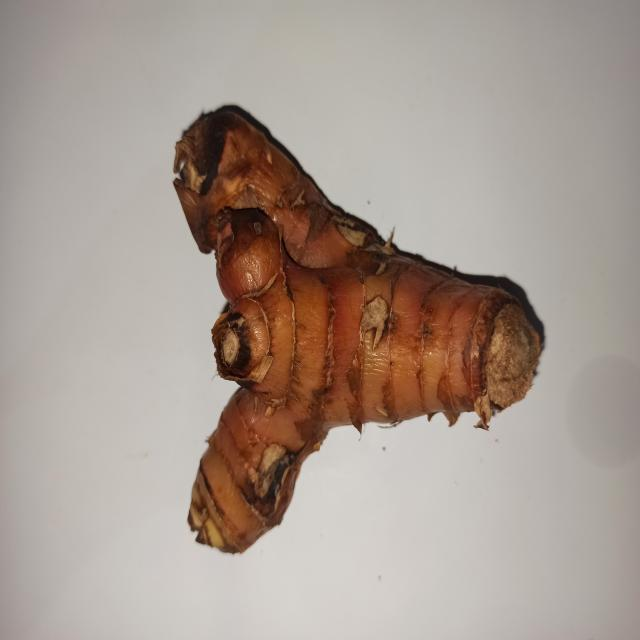ginger: (168, 114, 549, 526)
